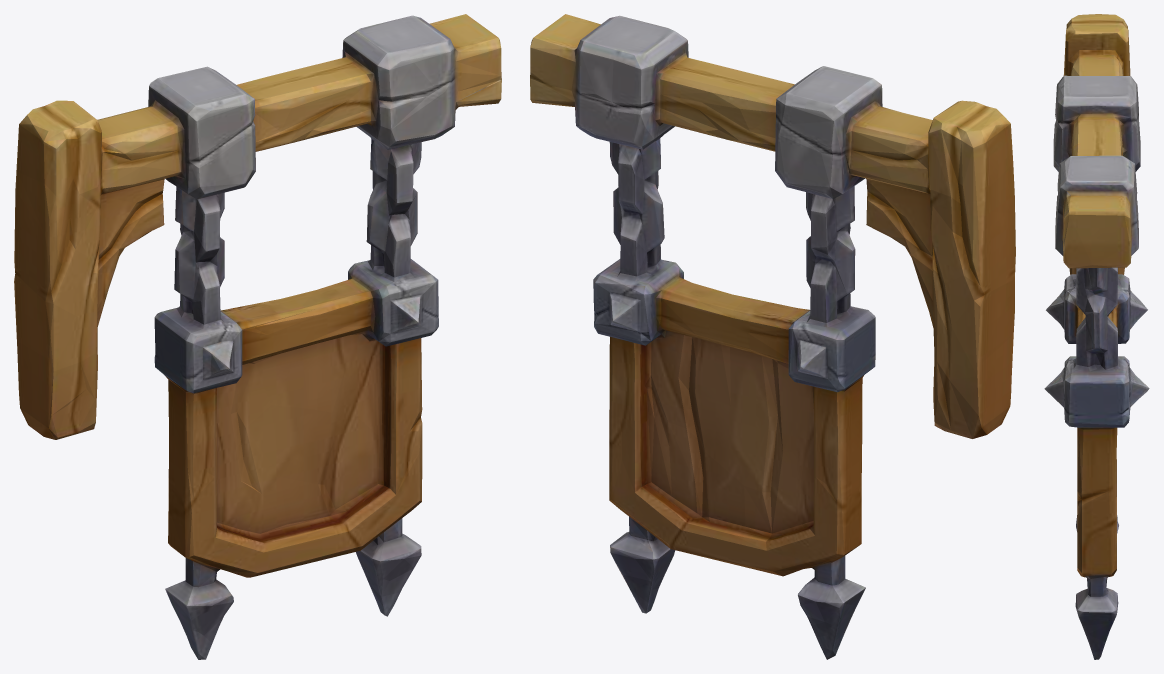
File: meshy_sign_blank_bracket_lod0.glb
3 views of the same model, side by side, from view 1: azimuth 30°, elevation 25°; view 2: azimuth 150°, elevation 25°; view 3: azimuth 270°, elevation 25° (orthographic). The views are drawn at different scales.
Visible parts, largest first — view 1: meshy_sign_blank_bracket; view 2: meshy_sign_blank_bracket; view 3: meshy_sign_blank_bracket.
Boxes of the visible parts, x1,y1,x2,y2 form: meshy_sign_blank_bracket: (14, 14, 501, 659); meshy_sign_blank_bracket: (530, 14, 1015, 659); meshy_sign_blank_bracket: (1044, 14, 1149, 659).
Bounding box in the file's own units: 1.15 × 1.4 × 0.2669.
1 material, 1 textured.
